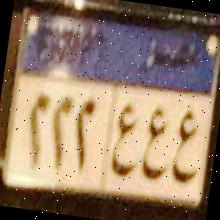2: (42, 88, 76, 172), (68, 92, 102, 174), (22, 91, 54, 171)
ain: (105, 98, 146, 186), (136, 102, 176, 188), (168, 106, 206, 191)
